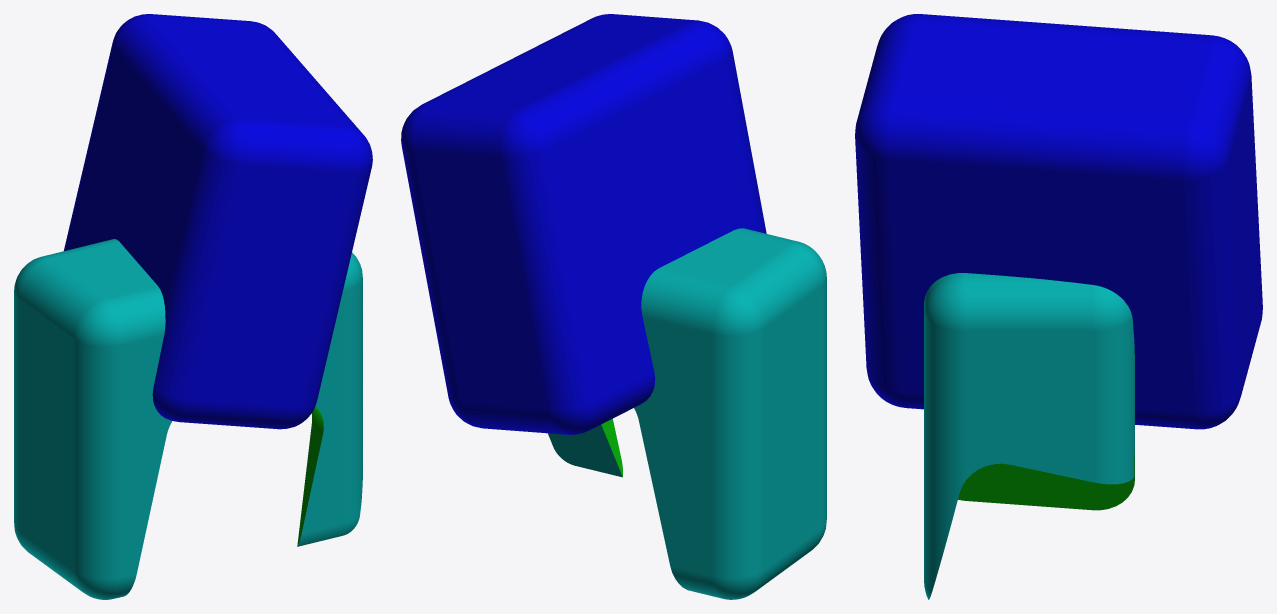
Rendered from random8.fbx.
3 views of the same model, side by side, from view 1: azimuth 30°, elevation 25°; view 2: azimuth 150°, elevation 25°; view 3: azimuth 270°, elevation 25° (orthographic). The views are drawn at different scales.
Parts seen in each view (by area): view 1: obj1; view 2: obj1; view 3: obj1.
Boxes of the visible parts, x1,y1,x2,y2 form: obj1: (14,14,372,599); obj1: (401,14,826,599); obj1: (855,14,1262,599).
Size of the model in its own units: 9.56 by 14.09 by 9.67.
